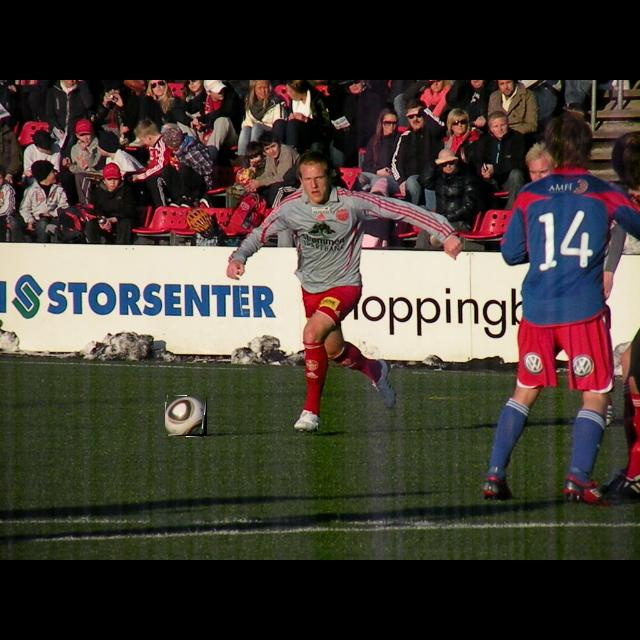Football: (165, 396, 207, 436)
